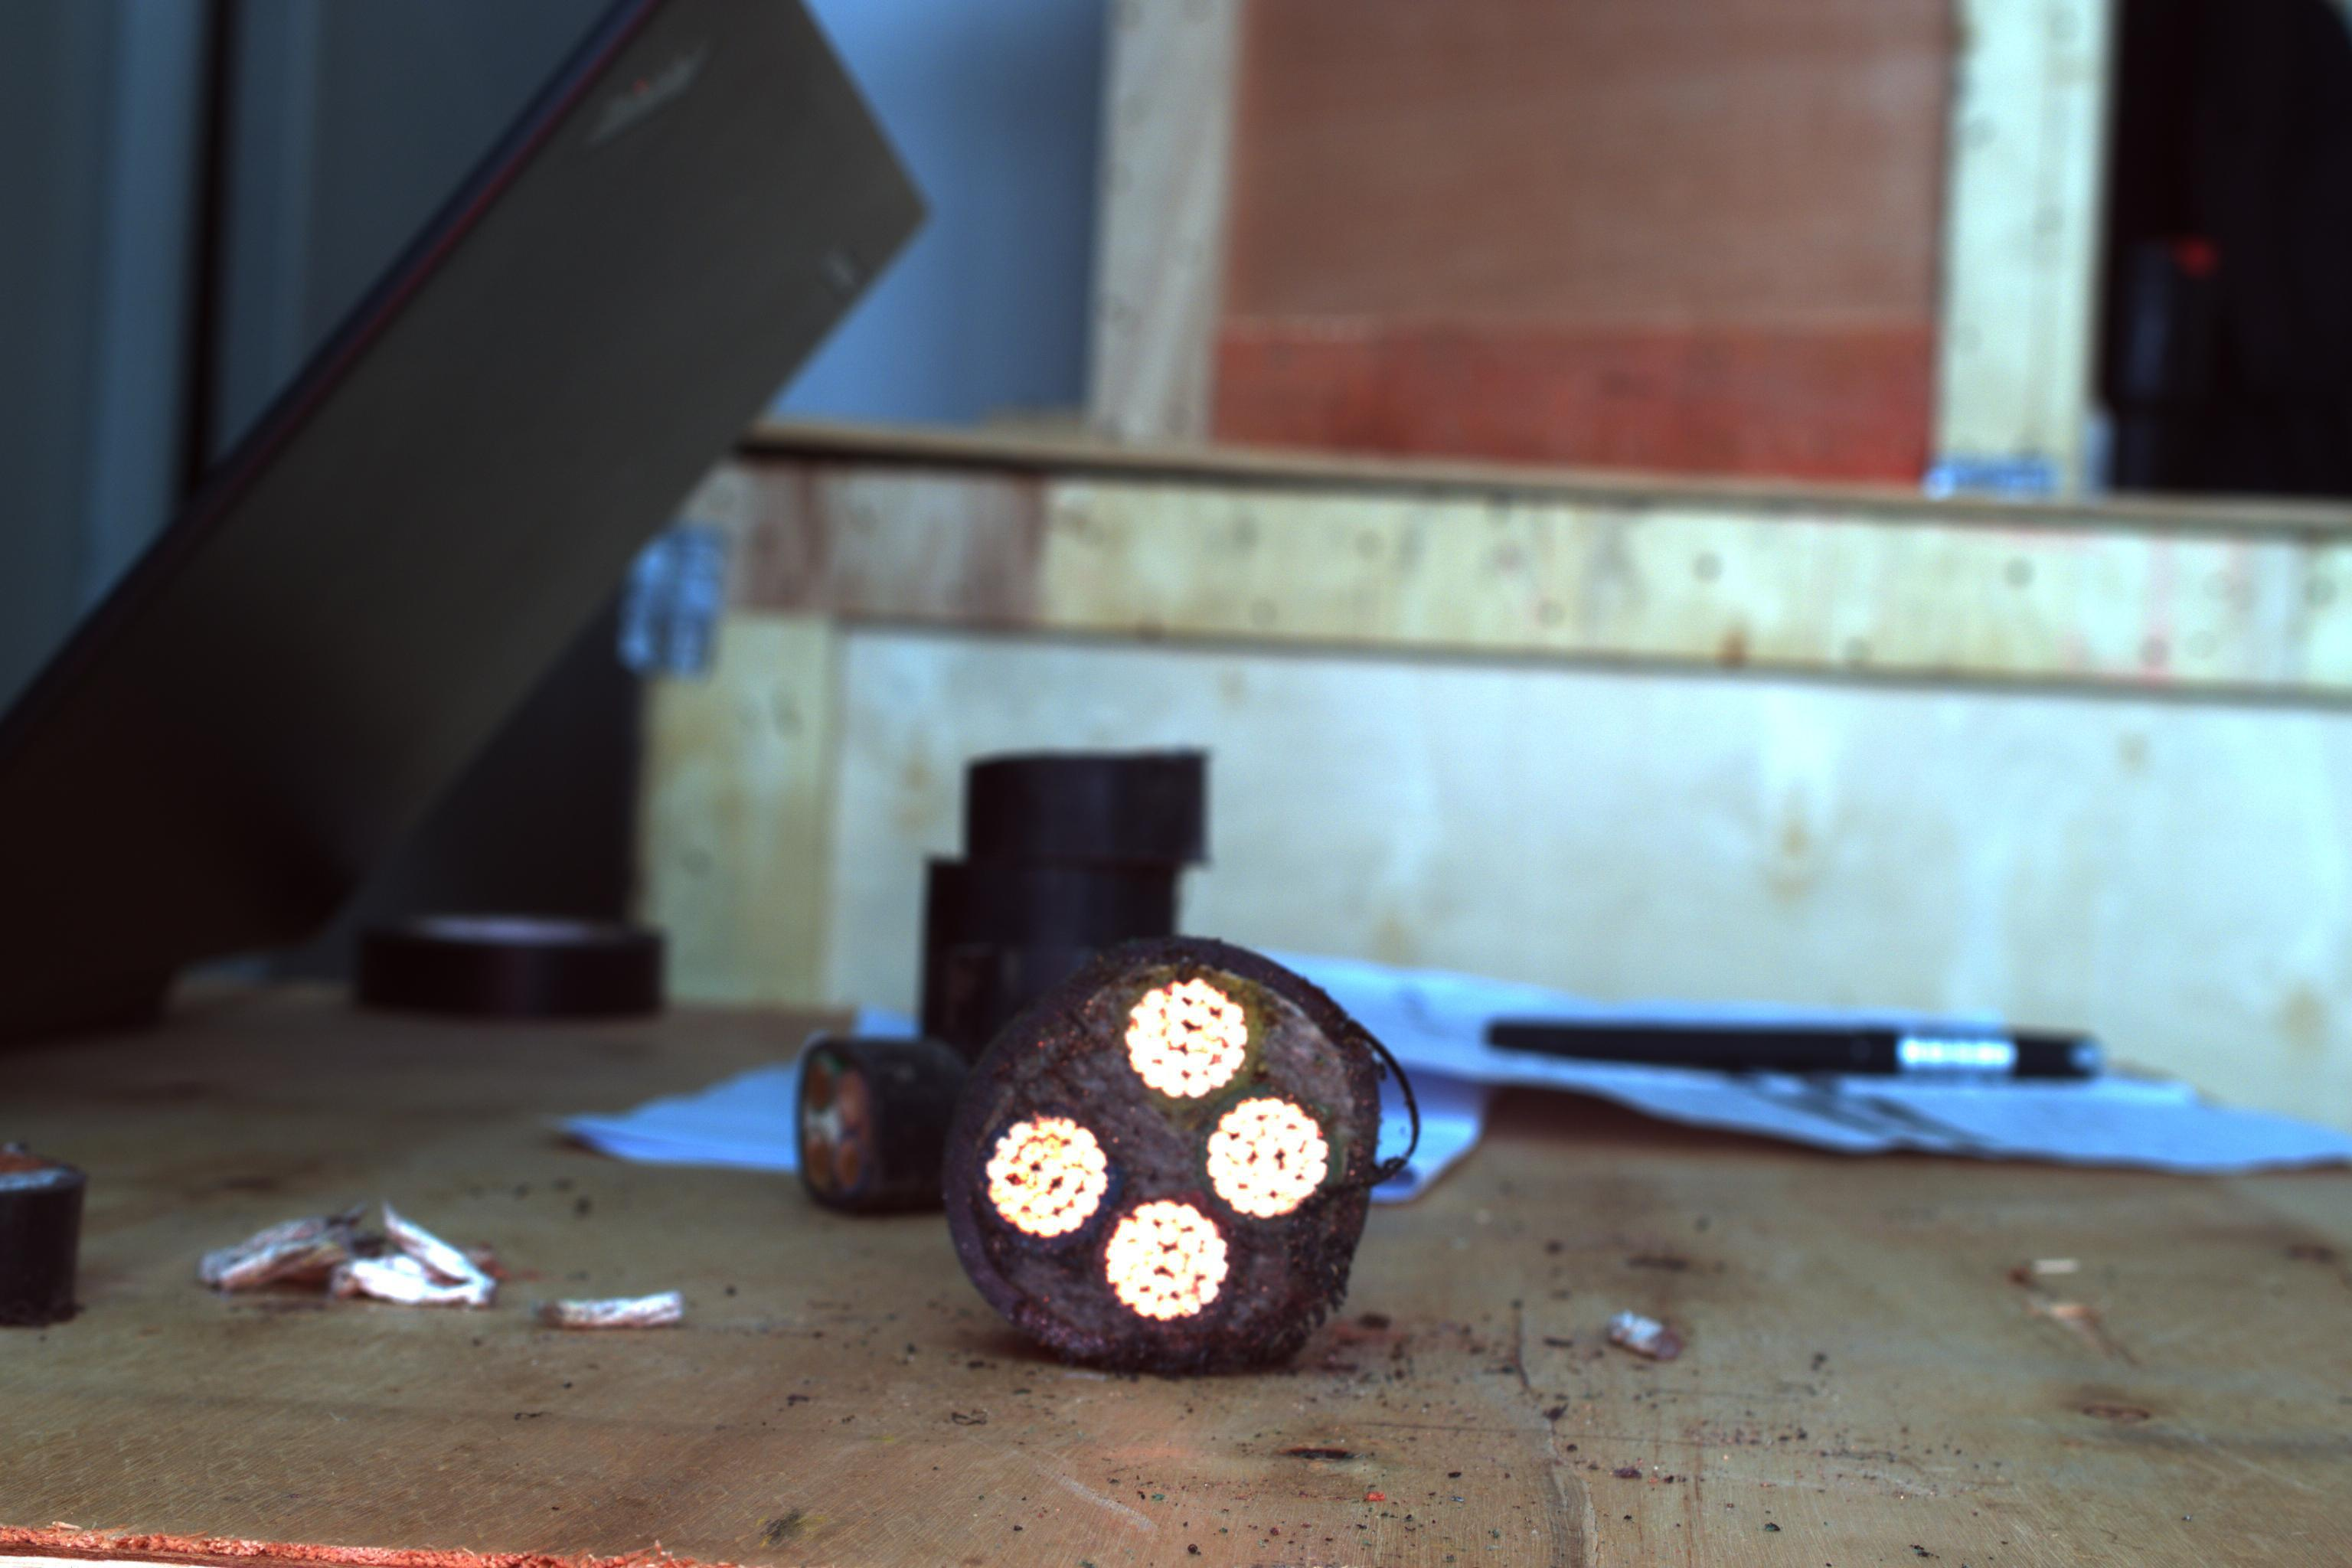YJV_0.6_1kV_4x120: (945, 947, 1367, 1377)
